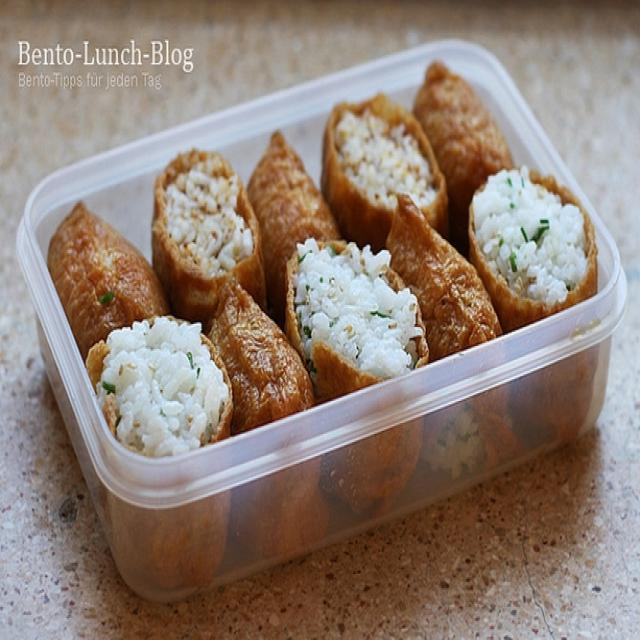寿司卷物: (20, 34, 623, 594)
